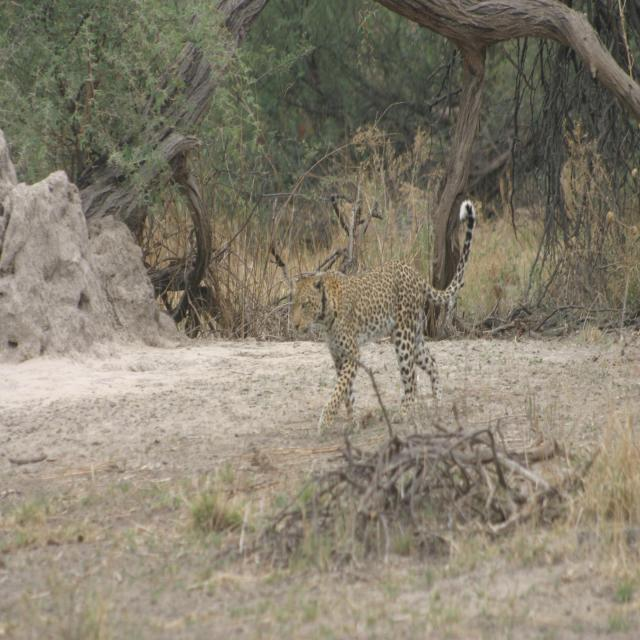Leopard: (282, 224, 470, 438)
